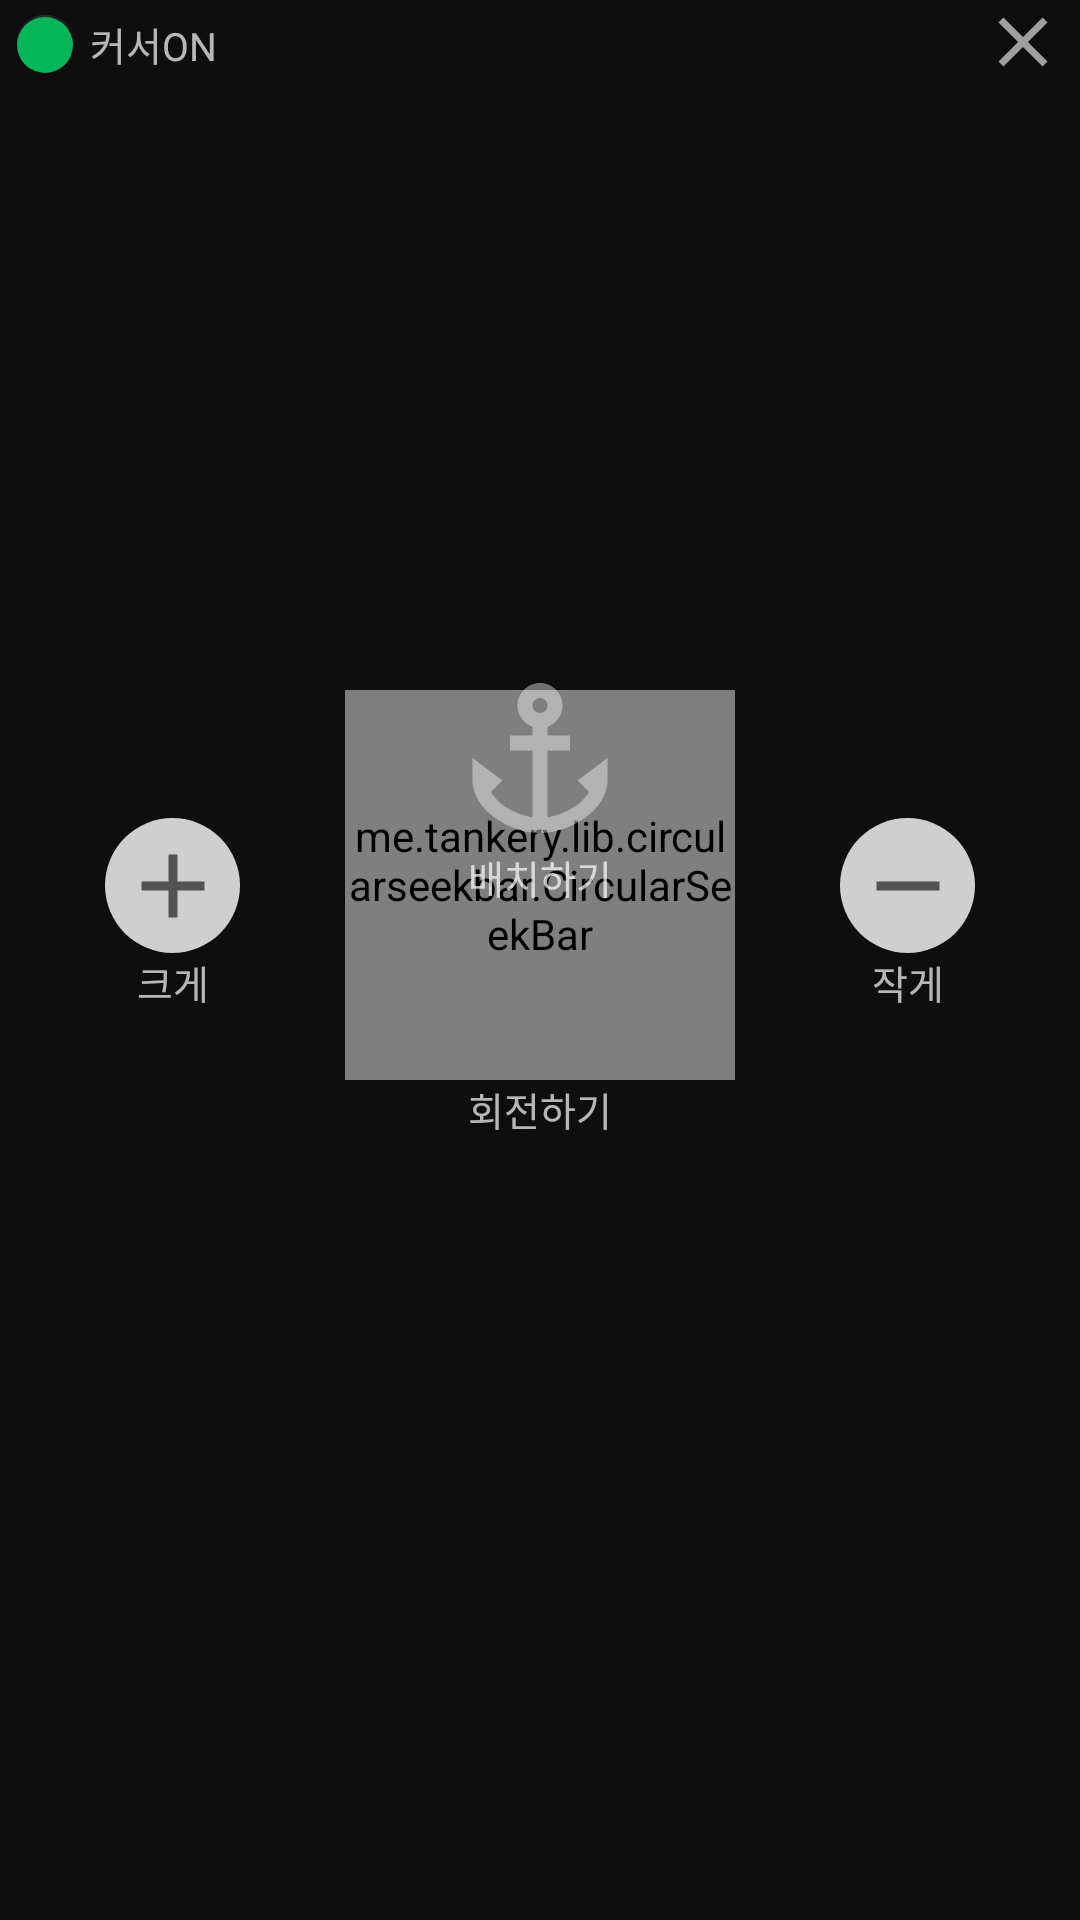

Icons on this 1080px x 1920px Android screen, each with the point to tap as (x=x, y=y):
add: (x=172, y=885)
close: (x=1023, y=42)
remove: (x=907, y=885)
